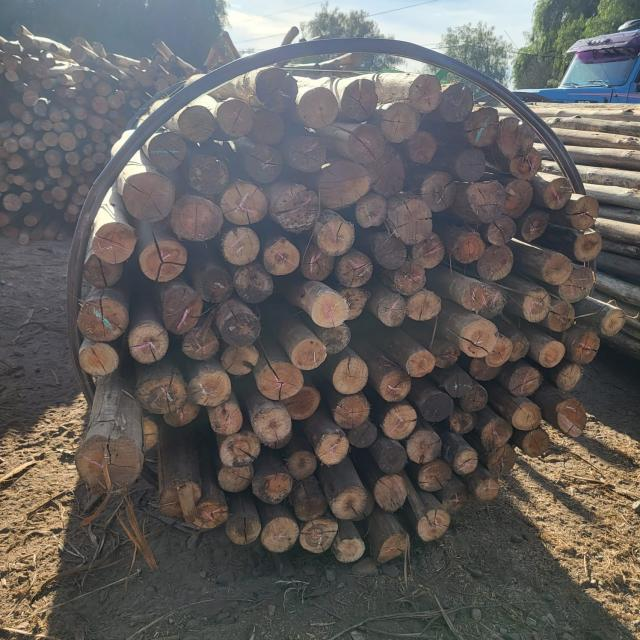package: (75, 65, 624, 566)
